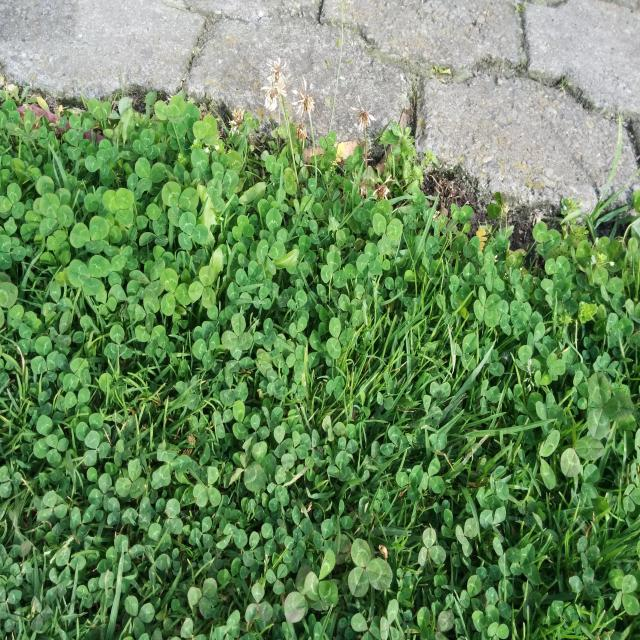Four Leaf Clover: (473, 286, 502, 327)
